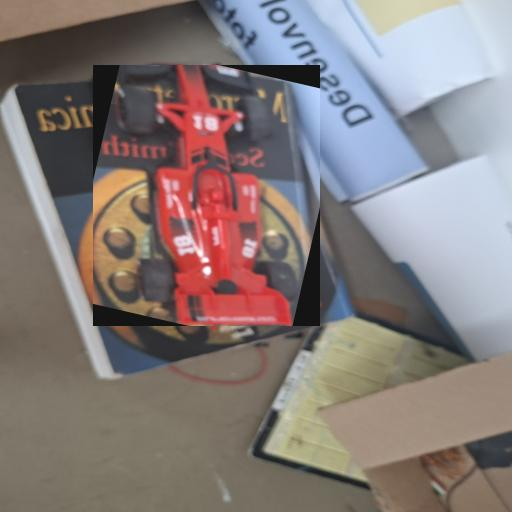carro: (92, 66, 319, 326)
